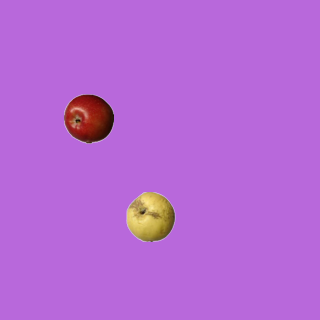Apple Braeburn: (63, 93, 113, 143)
Apple Golden 1: (125, 191, 175, 241)
